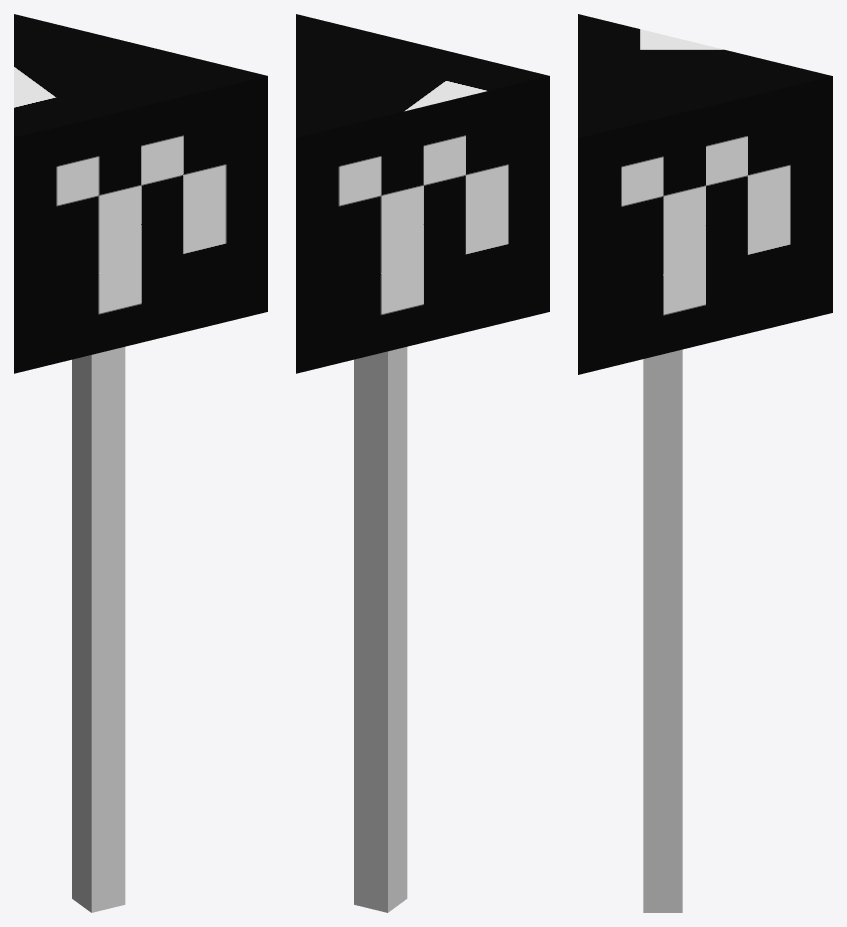
Rendered from aruco_27.dae.
The picture shows the model from 3 angles, left to right: view 1: azimuth 30°, elevation 25°; view 2: azimuth 150°, elevation 25°; view 3: azimuth 270°, elevation 25°; orthographic projection.
Parts seen in each view (by area): view 1: Cylinder.001; view 2: Cylinder.001; view 3: Cylinder.001.
Boxes of the visible parts, bbox=[...] form: Cylinder.001: bbox=[14, 14, 267, 912]; Cylinder.001: bbox=[296, 14, 549, 912]; Cylinder.001: bbox=[578, 14, 832, 912].
Size of the model in its own units: 0.2252 by 0.195 by 0.7.
Materials: 2 (1 with a texture image).
